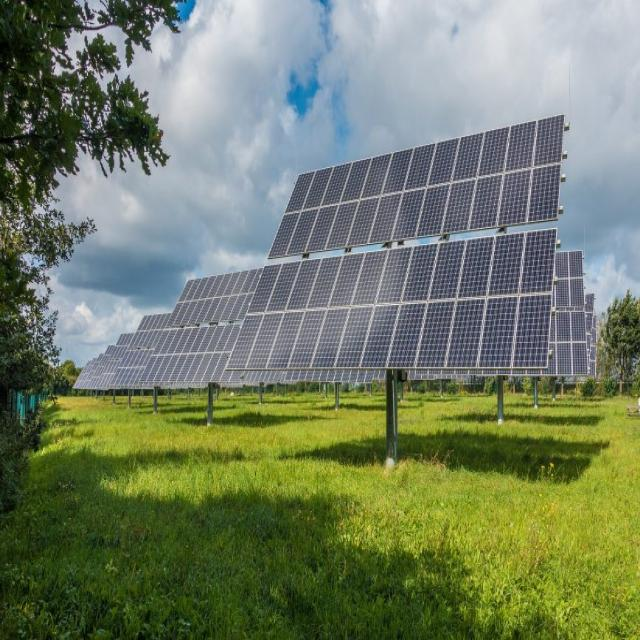clean-solar-panel: (227, 115, 564, 382)
